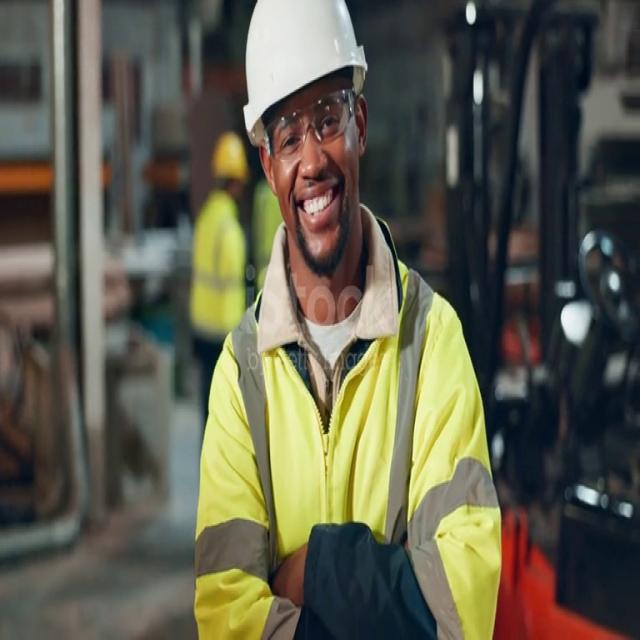capacete: (218, 11, 384, 172)
